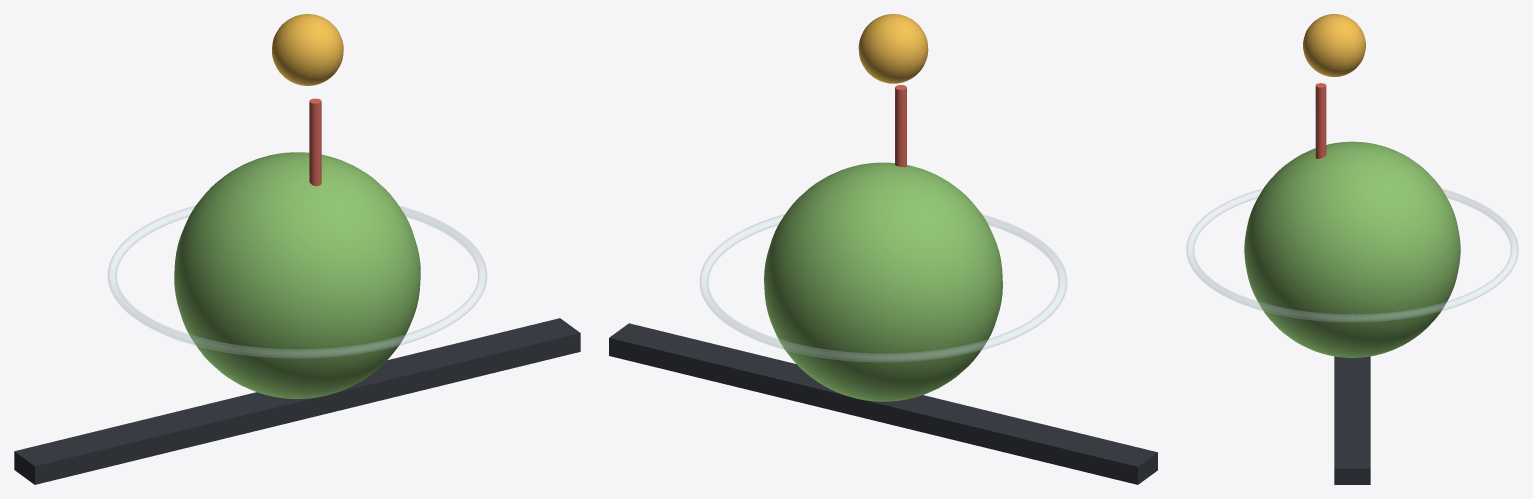
The model's file is physics-p1-gravity.glb.
The picture shows the model from 3 angles, left to right: view 1: azimuth 30°, elevation 25°; view 2: azimuth 150°, elevation 25°; view 3: azimuth 270°, elevation 25°; orthographic projection. The views are drawn at different scales.
Visible parts, largest first — view 1: large-planet-gravity-source, mechanics-bench-reference-base, gravity-field-ring-near-mass, falling-object-pulled-inward, gravity-pulls-toward-center-shaft; view 2: large-planet-gravity-source, mechanics-bench-reference-base, gravity-field-ring-near-mass, falling-object-pulled-inward, gravity-pulls-toward-center-shaft; view 3: large-planet-gravity-source, mechanics-bench-reference-base, gravity-field-ring-near-mass, falling-object-pulled-inward, gravity-pulls-toward-center-shaft.
Boxes of the visible parts, x1,y1,x2,y2 form: large-planet-gravity-source: [174, 152, 420, 398]; mechanics-bench-reference-base: [14, 318, 580, 484]; gravity-field-ring-near-mass: [108, 205, 486, 358]; falling-object-pulled-inward: [272, 14, 343, 85]; gravity-pulls-toward-center-shaft: [309, 98, 321, 186]; large-planet-gravity-source: [764, 162, 1002, 401]; mechanics-bench-reference-base: [609, 323, 1157, 484]; gravity-field-ring-near-mass: [700, 214, 1066, 361]; falling-object-pulled-inward: [858, 14, 928, 83]; gravity-pulls-toward-center-shaft: [895, 85, 906, 167]; large-planet-gravity-source: [1244, 141, 1460, 357]; mechanics-bench-reference-base: [1334, 356, 1370, 484]; gravity-field-ring-near-mass: [1186, 188, 1518, 321]; falling-object-pulled-inward: [1303, 14, 1365, 76]; gravity-pulls-toward-center-shaft: [1315, 83, 1326, 158].
Size of what is drawn, in the model's own units: 2.45 by 1.72 by 1.48.
